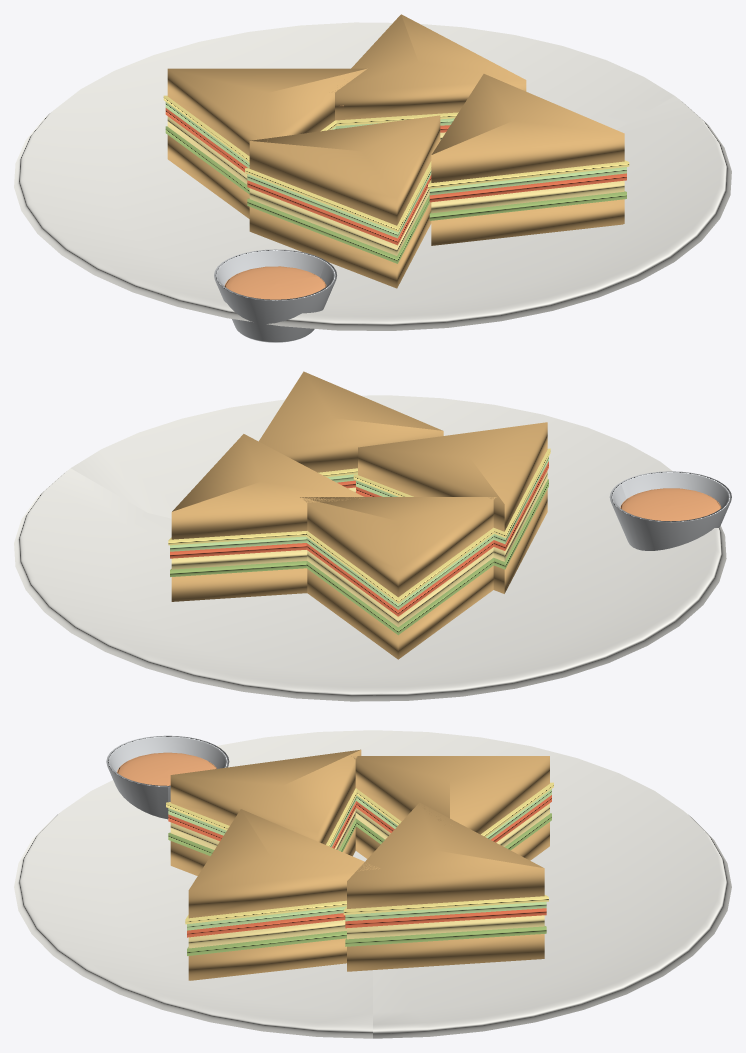
Rendered from bombay-sandwich.glb.
3 renders of one model, top to bottom at view 1: azimuth 30°, elevation 25°; view 2: azimuth 150°, elevation 25°; view 3: azimuth 270°, elevation 25°, orthographic.
Visible parts, largest first — view 1: bombay-sandwich; view 2: bombay-sandwich; view 3: bombay-sandwich.
Boxes of the visible parts, bbox=[...] form: bombay-sandwich: bbox=[14, 14, 731, 342]; bombay-sandwich: bbox=[14, 371, 731, 701]; bombay-sandwich: bbox=[14, 730, 731, 1038].
Bounding box in the file's own units: 0.28 × 0.046 × 0.28.
